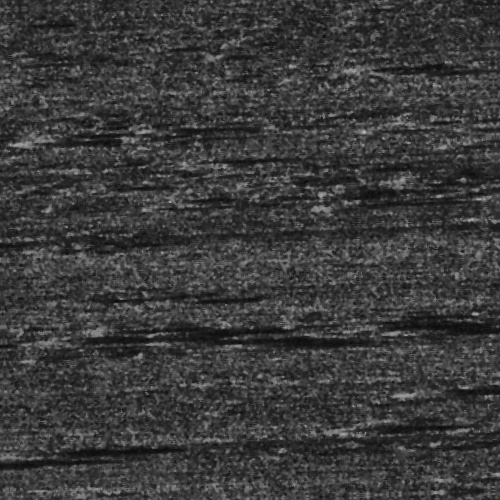object: (349, 330, 474, 343), (305, 324, 410, 335), (82, 315, 165, 328), (18, 324, 111, 335), (391, 391, 454, 402), (0, 439, 68, 448), (358, 66, 399, 77), (331, 428, 372, 437), (131, 335, 204, 340)
shadow: (65, 324, 251, 335), (124, 315, 245, 328), (358, 324, 500, 335), (412, 330, 500, 343), (26, 439, 142, 448), (379, 66, 466, 77), (423, 391, 500, 402), (352, 428, 438, 437), (167, 335, 294, 340), (0, 449, 84, 456)
